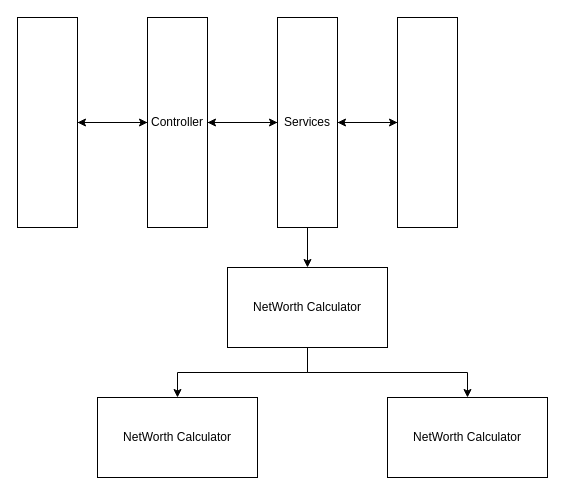
The diagram is 565 pixels wide and 495 high, and some of its shapes have lost their labels. The centre of each missing label's shape, as x and y in pixels:
Global Exception Filter: point 47,122
Repository: point 427,122
